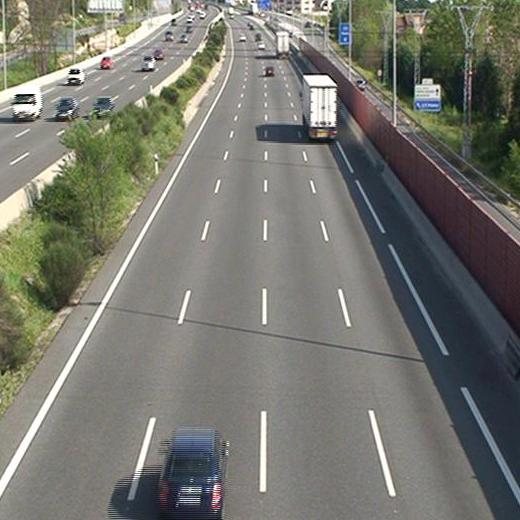car: (158, 432, 222, 515), (265, 66, 274, 75)
truck: (302, 75, 337, 138), (275, 32, 290, 58)
